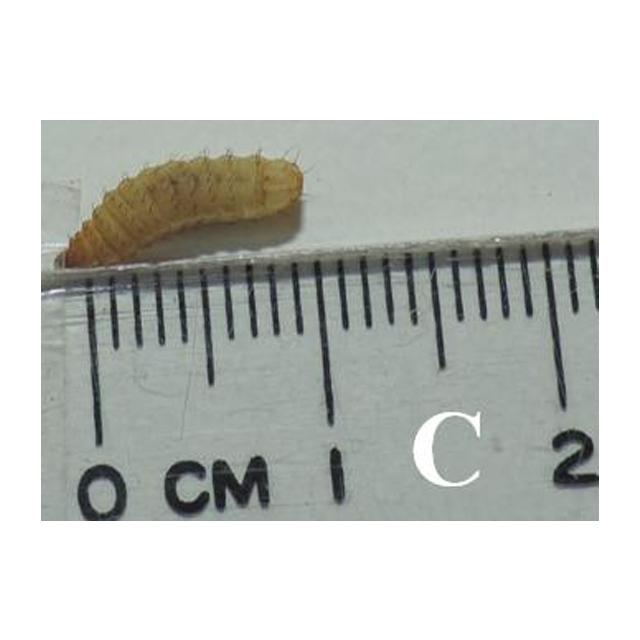Maggot: (53, 152, 310, 274)
